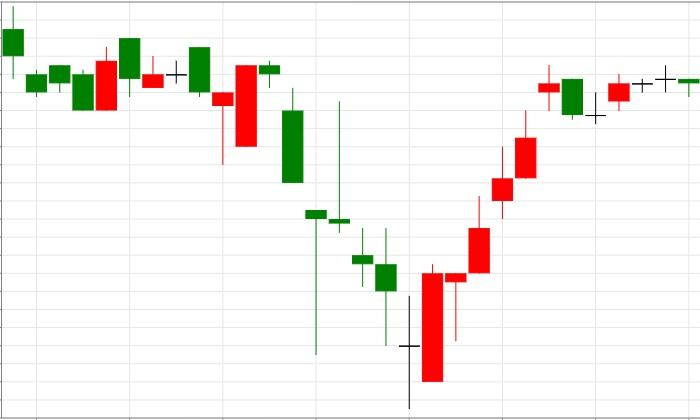bullish_engulfing_rise: (2, 6, 117, 110)
